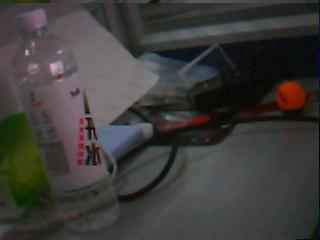oball: (276, 81, 306, 110)
